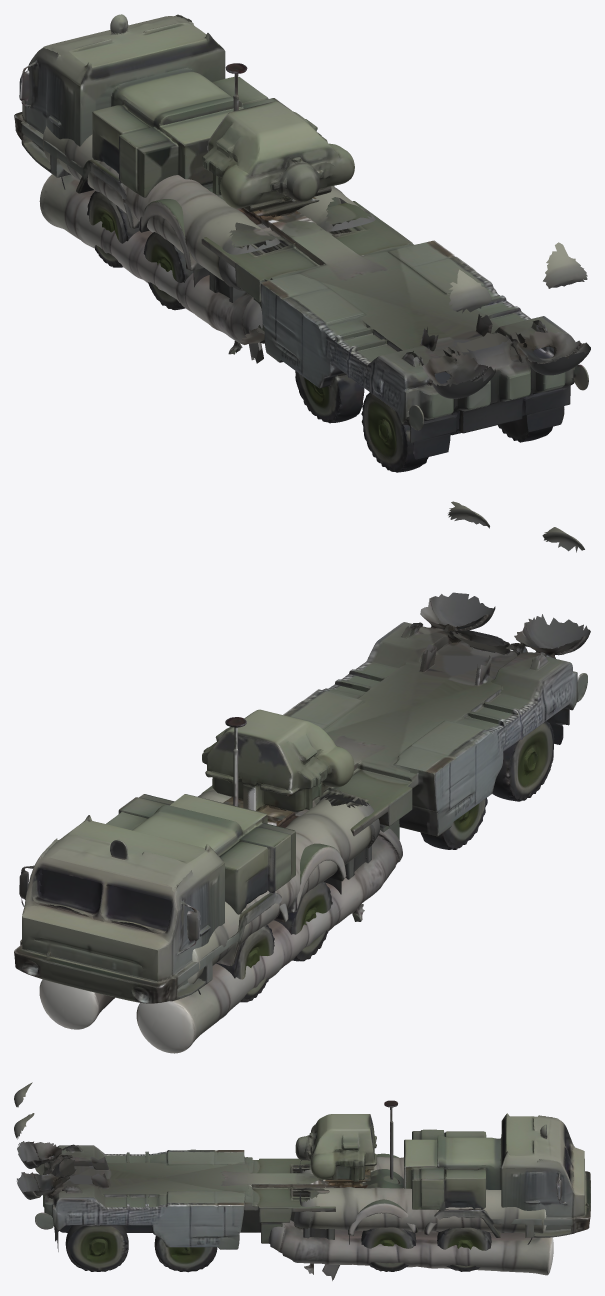
3 views of the same model, one above another, from view 1: azimuth 30°, elevation 25°; view 2: azimuth 150°, elevation 25°; view 3: azimuth 270°, elevation 25° (orthographic). The views are drawn at different scales.
Visible parts, largest first — view 1: body|material_0, cradle|material_0; view 2: body|material_0, cradle|material_0; view 3: body|material_0, cradle|material_0.
Part boxes in pixels (box(x1,y1,x2,y2)): body|material_0: box(14, 14, 590, 472); cradle|material_0: box(39, 126, 375, 363); body|material_0: box(14, 501, 590, 1003); cradle|material_0: box(39, 787, 402, 1053); body|material_0: box(14, 1082, 590, 1272); cradle|material_0: box(268, 1156, 553, 1280).
Bounding box in the file's own units: 3.2 × 4.52 × 13.42.
Materials: 2 (2 with a texture image).
